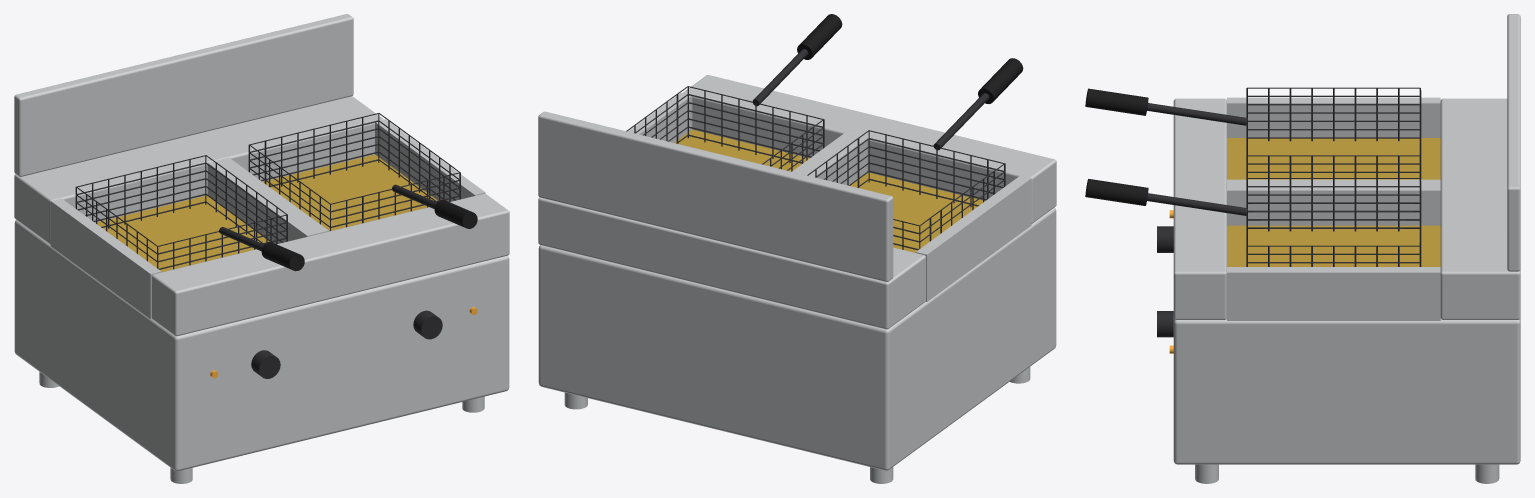
The model's file is freidora.glb.
The picture shows the model from 3 angles, left to right: view 1: azimuth 30°, elevation 25°; view 2: azimuth 150°, elevation 25°; view 3: azimuth 270°, elevation 25°; orthographic projection. The views are drawn at different scales.
Visible parts, largest first — view 1: cuerpo, cesta_1, aceite_1, empunadura_1; view 2: cuerpo, cesta_1, aceite_1, empunadura_1; view 3: cuerpo, aceite_1, cesta_1, empunadura_1.
Part boxes in pixels (x1=…): cuerpo: x1=14, y1=14, x2=509, y2=483; cesta_1: x1=75, y1=113, x2=460, y2=378; aceite_1: x1=95, y1=154, x2=437, y2=272; empunadura_1: x1=261, y1=200, x2=477, y2=271; cuerpo: x1=538, y1=75, x2=1056, y2=483; cesta_1: x1=626, y1=49, x2=1005, y2=250; aceite_1: x1=674, y1=129, x2=984, y2=252; empunadura_1: x1=797, y1=14, x2=1023, y2=103; cuerpo: x1=1173, y1=14, x2=1520, y2=483; aceite_1: x1=1227, y1=138, x2=1440, y2=266; cesta_1: x1=1147, y1=87, x2=1421, y2=337; empunadura_1: x1=1085, y1=88, x2=1148, y2=205.
Size of the model in its own units: 0.62 by 0.5 by 0.6523.
